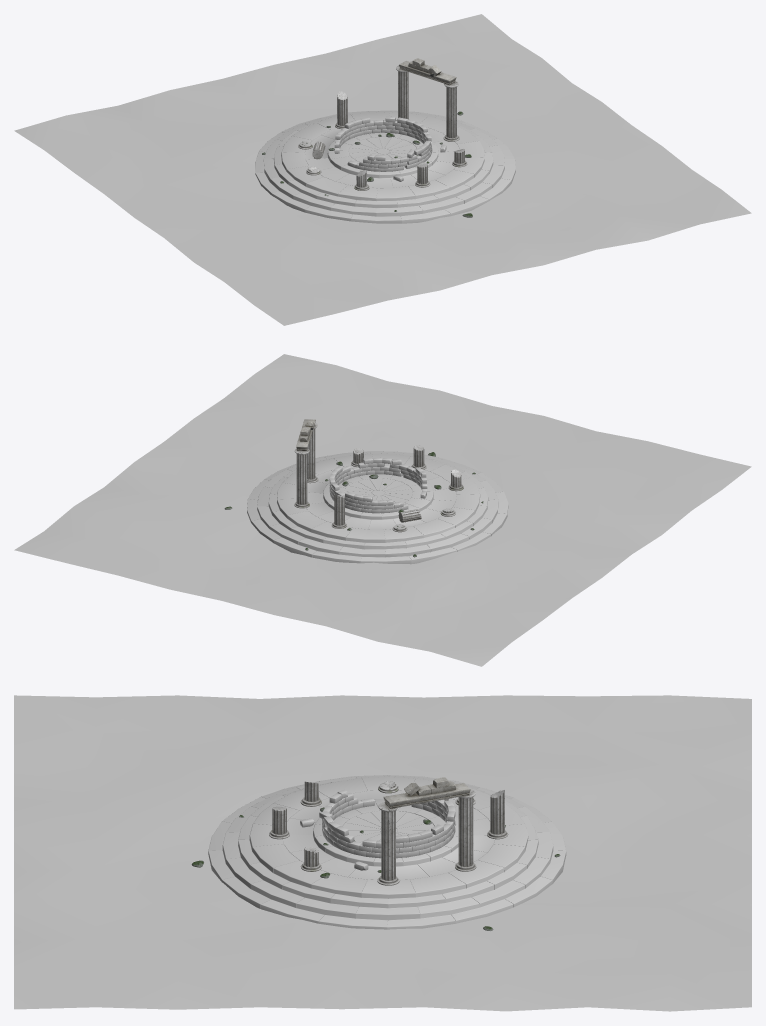
The model's file is Columns scene.fbx.
3 views of the same model, one above another, from view 1: azimuth 30°, elevation 25°; view 2: azimuth 150°, elevation 25°; view 3: azimuth 270°, elevation 25° (orthographic). The views are drawn at different scales.
Visible parts, largest first — view 1: ziemia, schody, murek, KOLUMNA.001, PODSTAWA KOLUMNY; view 2: ziemia, schody, murek, KOLUMNA.001, PODSTAWA KOLUMNY; view 3: ziemia, schody, murek, KOLUMNA.001, PODSTAWA KOLUMNY, dlugi blok.
Boxes of the visible parts, bbox=[...] form: ziemia: bbox=[14, 14, 751, 325]; schody: bbox=[255, 110, 515, 223]; murek: bbox=[334, 116, 432, 171]; KOLUMNA.001: bbox=[308, 71, 464, 187]; PODSTAWA KOLUMNY: bbox=[298, 65, 467, 190]; ziemia: bbox=[14, 354, 751, 666]; schody: bbox=[247, 451, 508, 564]; murek: bbox=[329, 457, 427, 513]; KOLUMNA.001: bbox=[296, 429, 461, 525]; PODSTAWA KOLUMNY: bbox=[294, 423, 463, 532]; ziemia: bbox=[14, 695, 751, 1011]; schody: bbox=[208, 775, 566, 929]; murek: bbox=[319, 789, 455, 858]; KOLUMNA.001: bbox=[272, 781, 504, 880]; PODSTAWA KOLUMNY: bbox=[269, 783, 508, 885]; dlugi blok: bbox=[383, 783, 470, 808].
Bounding box in the file's own units: 2511 × 432 × 2511.
